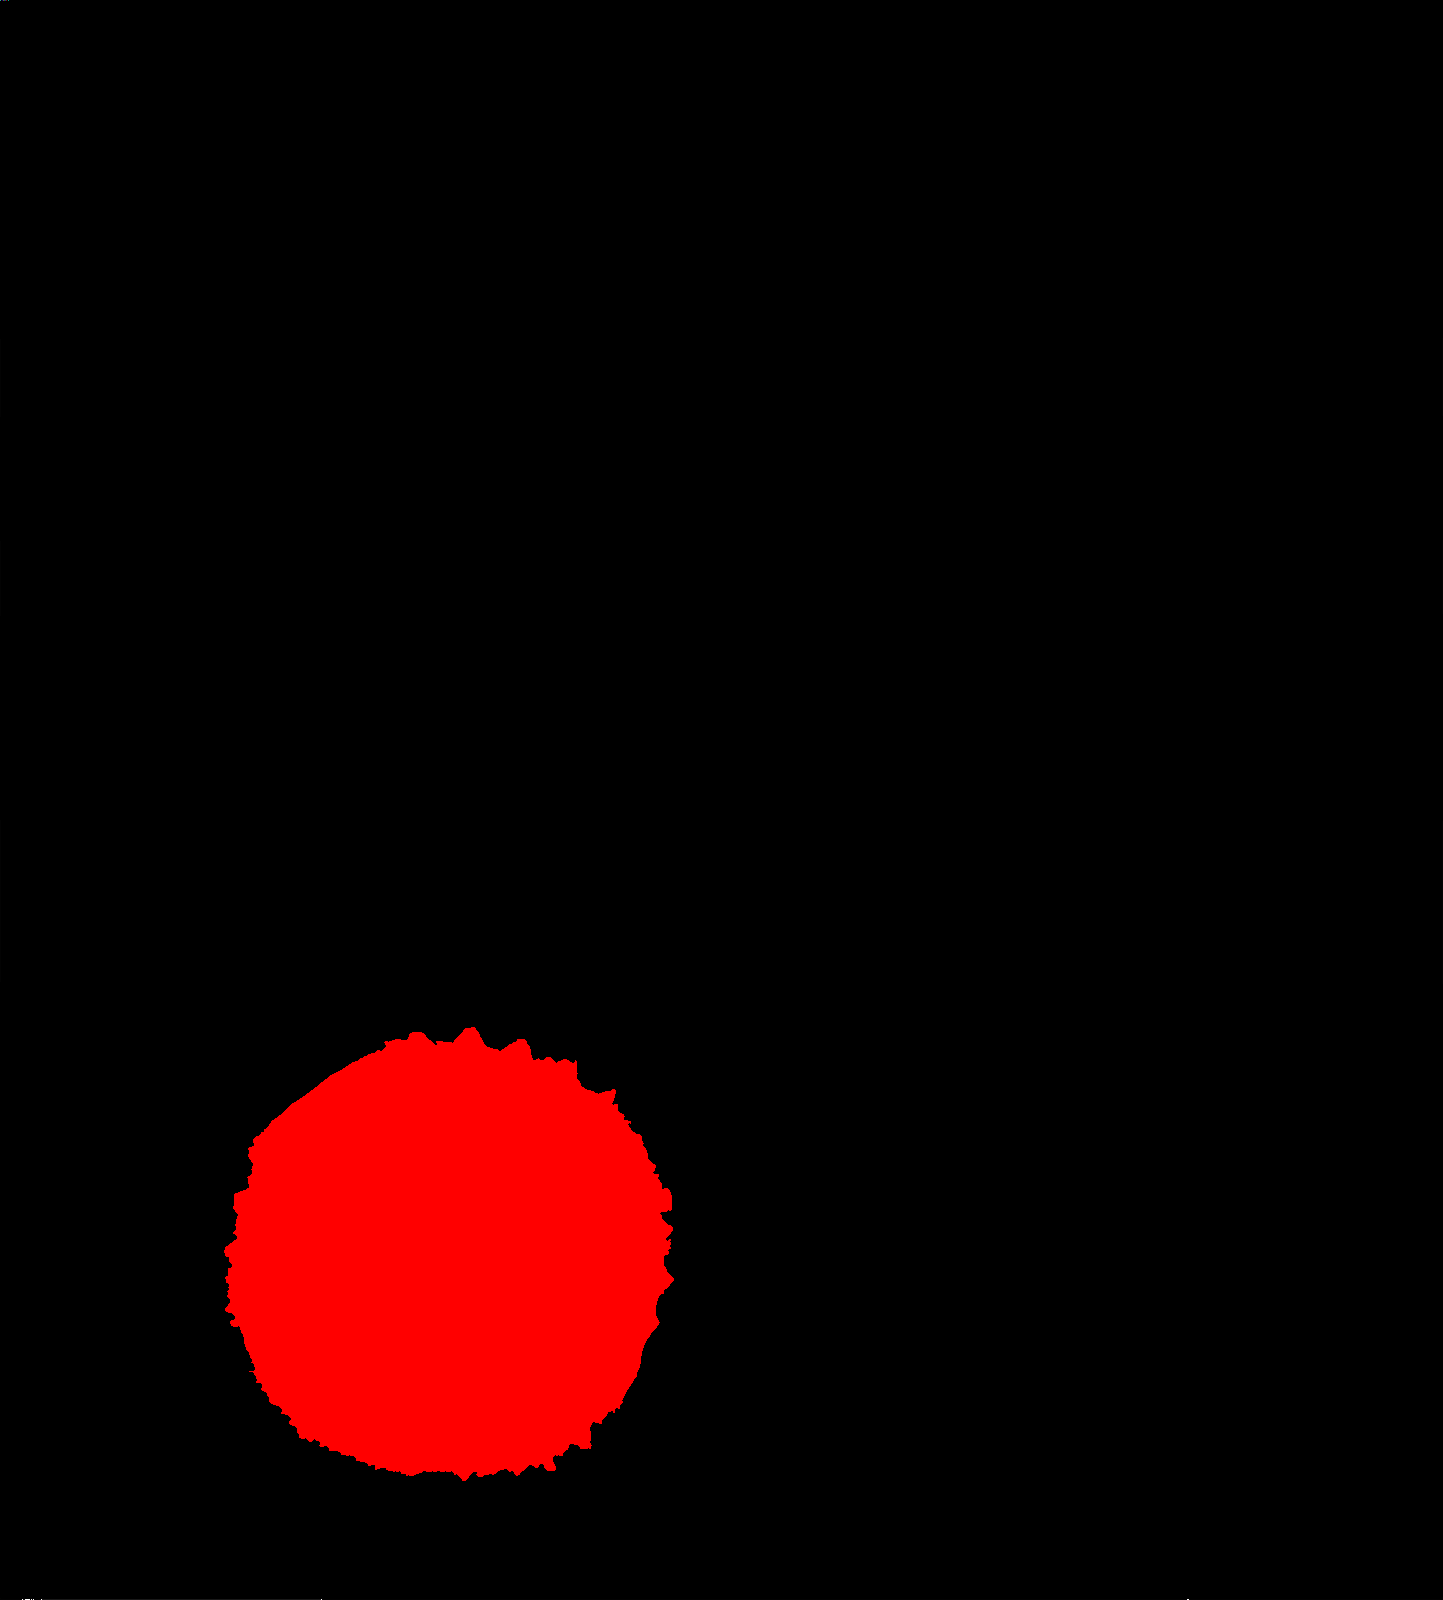stamp: (219, 1030, 669, 1487)
